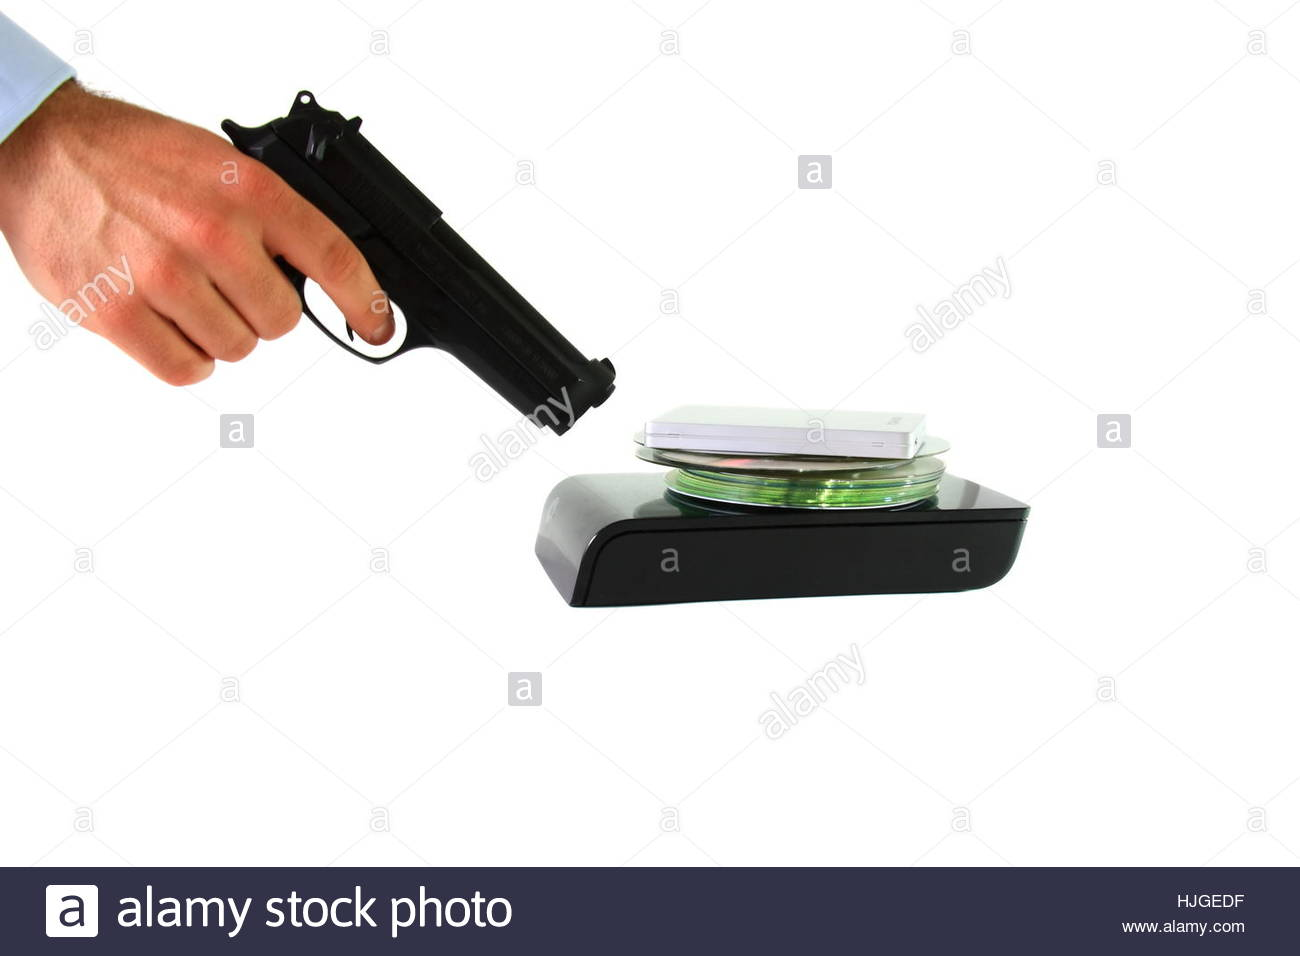pistol: (2, 14, 630, 446)
